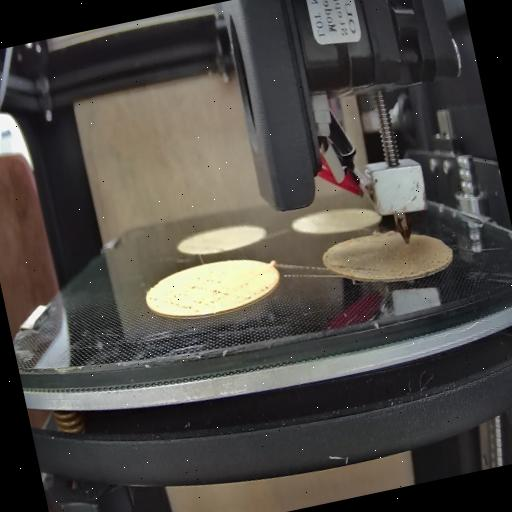under_extrusion: (146, 272, 232, 324), (386, 242, 454, 287), (332, 256, 378, 288), (242, 272, 274, 302)
